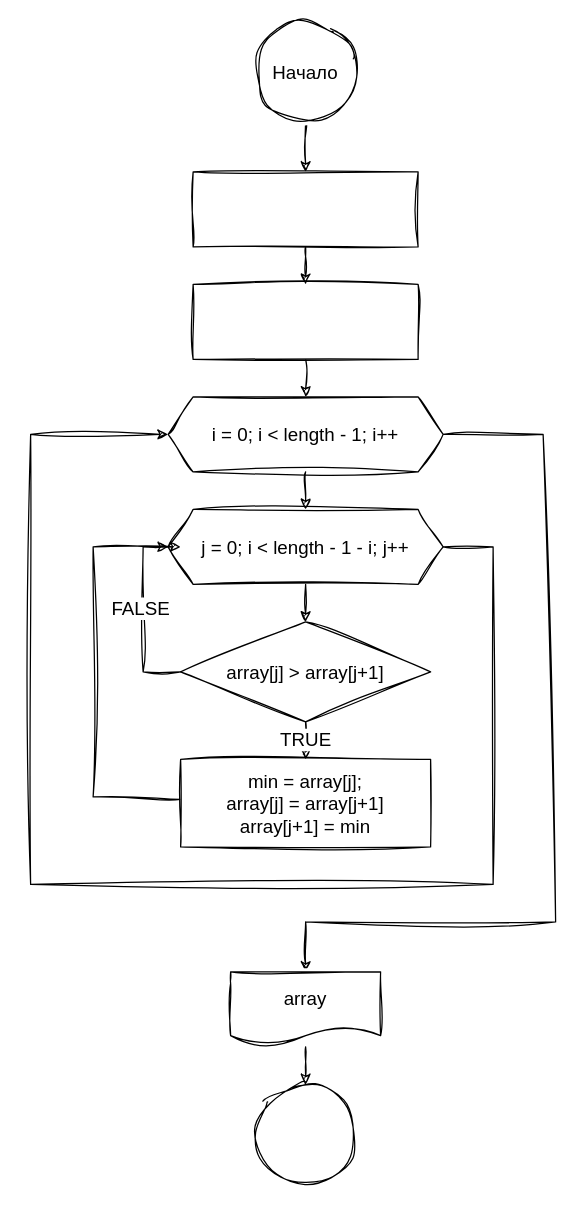
This 588x1206 diagram has some shape labels left out. The box of each missing label's shape, as (x1, y1, x2, y2) in pixels:
array = [4, 5, 2, 3, 1]: (192, 171, 418, 247)
length = array.length: (192, 283, 418, 359)
Конец: (254, 1083, 356, 1184)
